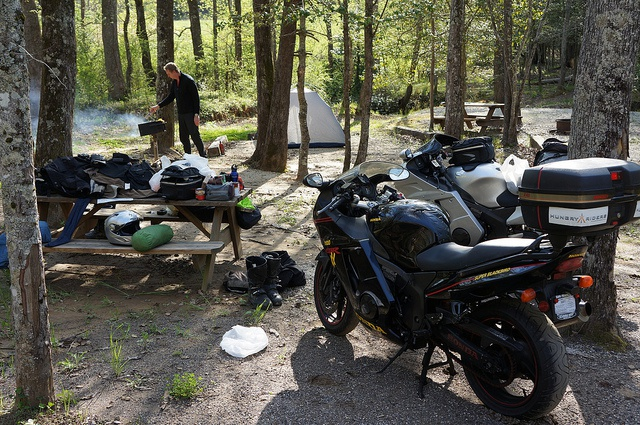non-vehicle: (301, 148, 640, 416), (398, 135, 573, 219)
